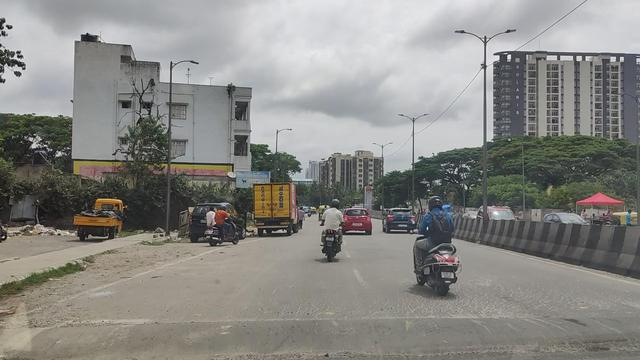HMV: (253, 182, 295, 229)
LMV: (417, 197, 461, 291), (322, 199, 341, 254), (344, 210, 371, 233)
RoadDamages: (9, 272, 109, 308)
SpeedBump: (2, 312, 637, 360)
